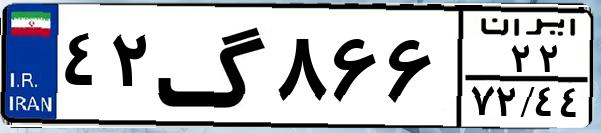2: (110, 28, 156, 98), (537, 27, 568, 80), (508, 27, 537, 80), (495, 70, 520, 125)
4: (57, 26, 110, 100), (560, 70, 590, 125), (535, 70, 560, 125)
6: (385, 28, 445, 110), (330, 28, 385, 110)
7: (470, 70, 495, 125)
8: (270, 28, 330, 110)
گ: (156, 12, 270, 120)
